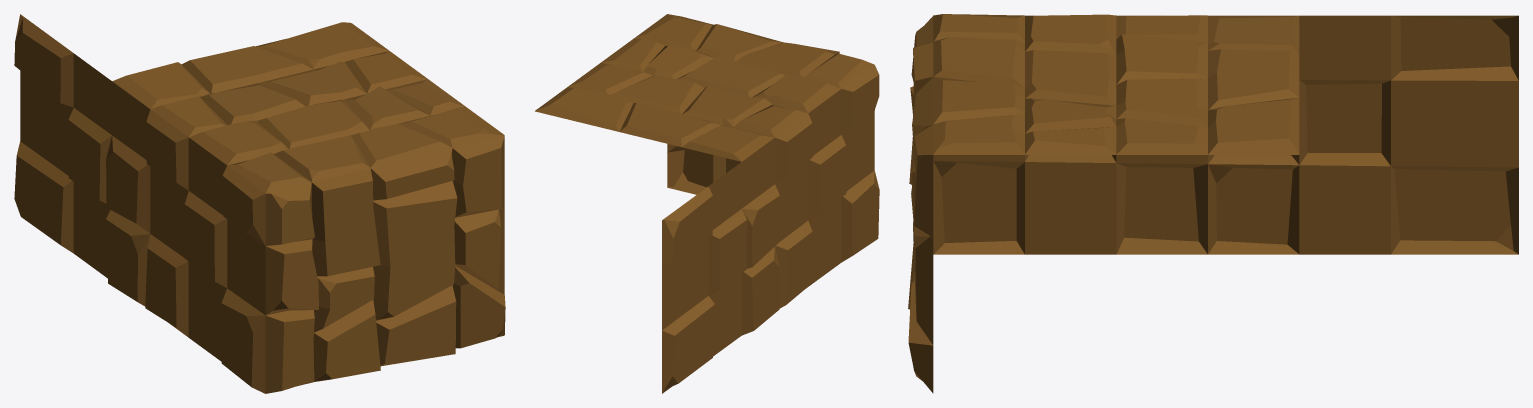
Rendered from Ground_Cave01.fbx.
3 views of the same model, side by side, from view 1: azimuth 30°, elevation 25°; view 2: azimuth 150°, elevation 25°; view 3: azimuth 270°, elevation 25° (orthographic). The views are drawn at different scales.
Visible parts, largest first — view 1: Cave_Ground01.001; view 2: Cave_Ground01.001; view 3: Cave_Ground01.001.
Part boxes in pixels (x1,y1,x2,y2): Cave_Ground01.001: (14, 14, 505, 393); Cave_Ground01.001: (535, 14, 879, 393); Cave_Ground01.001: (908, 14, 1518, 393).
Size of the model in its own units: 2745 by 2201 by 4901.
